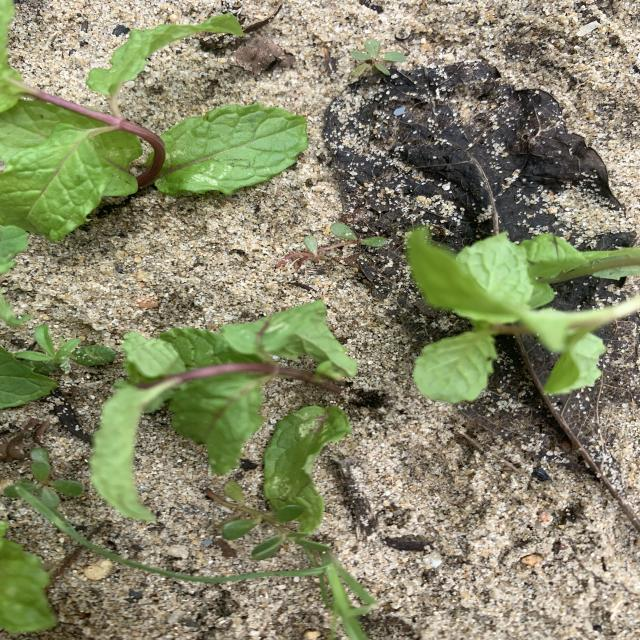crop: (0, 15, 307, 240), (86, 299, 370, 517), (405, 228, 640, 402)
weed: (76, 536, 376, 640), (205, 481, 331, 560), (275, 222, 390, 273), (4, 447, 83, 510), (15, 325, 116, 373), (350, 39, 406, 79)
